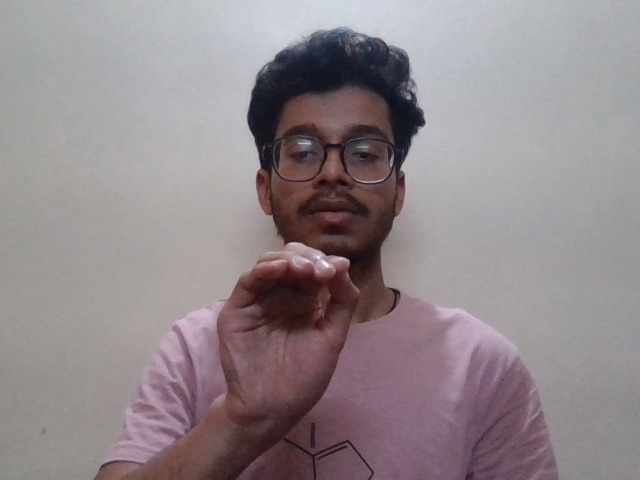sound: (211, 237, 368, 447)
